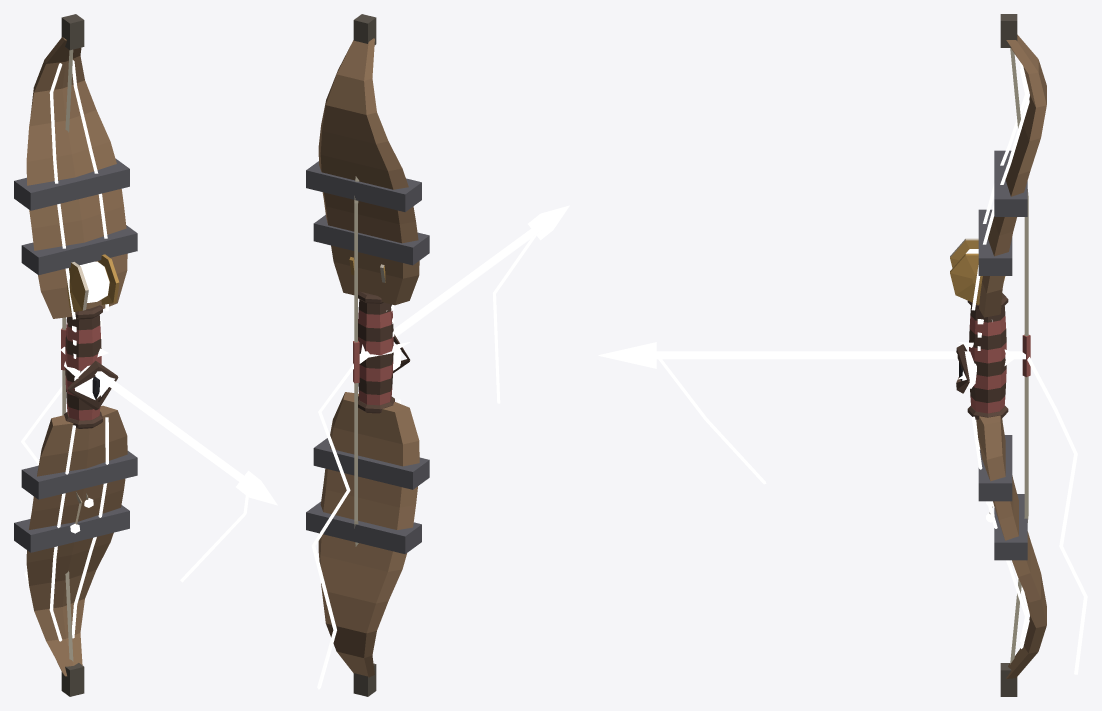
File: bow-pin-shot.glb
The picture shows the model from 3 angles, left to right: view 1: azimuth 30°, elevation 25°; view 2: azimuth 150°, elevation 25°; view 3: azimuth 270°, elevation 25°; orthographic projection.
Visible parts, largest first — view 1: bow-pin-shot, pulse_arrow, pulse_vein, blink_eye, string; view 2: bow-pin-shot, pulse_arrow, string; view 3: bow-pin-shot, pulse_arrow, string, pulse_vein.
Boxes of the visible parts, x1=… form: bow-pin-shot: x1=14, y1=14, x2=137, y2=696; pulse_arrow: x1=21, y1=346, x2=277, y2=584; pulse_vein: x1=49, y1=60, x2=108, y2=641; blink_eye: x1=67, y1=360, x2=118, y2=410; string: x1=61, y1=49, x2=73, y2=661; bow-pin-shot: x1=306, y1=14, x2=429, y2=696; pulse_arrow: x1=311, y1=205, x2=569, y2=689; string: x1=353, y1=176, x2=359, y2=546; bow-pin-shot: x1=950, y1=14, x2=1046, y2=696; pulse_arrow: x1=598, y1=342, x2=1087, y2=674; string: x1=1010, y1=48, x2=1030, y2=664; pulse_vein: x1=971, y1=63, x2=1029, y2=648.
Bounding box in the file's own units: 0.233 × 1.51 × 0.9924.
